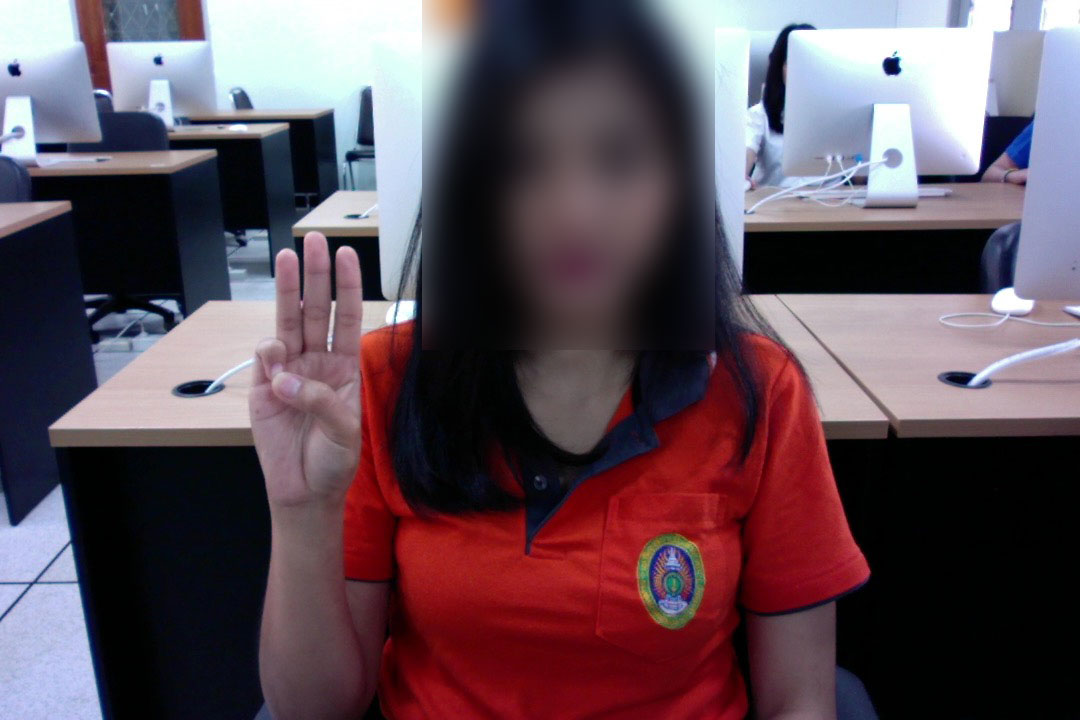wor: (242, 227, 385, 512)
